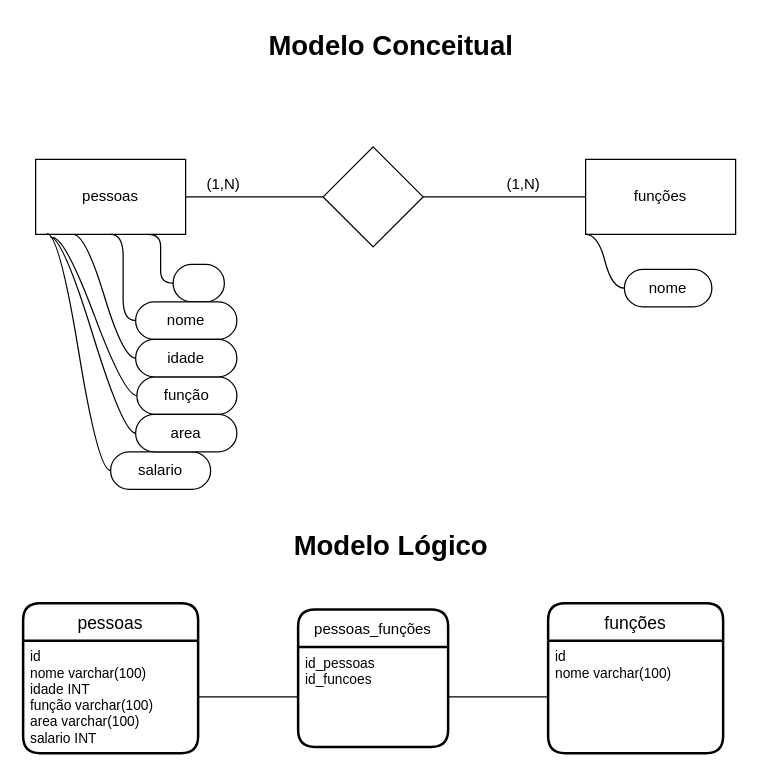
Image size: 758x775. Some labels were removed from this diagram. The shapes that lost their labels are listed below. From the top down, each one's centre as x and y in pixels, then its label:
At point 372,196: "tem".
At point 198,282: "id".
